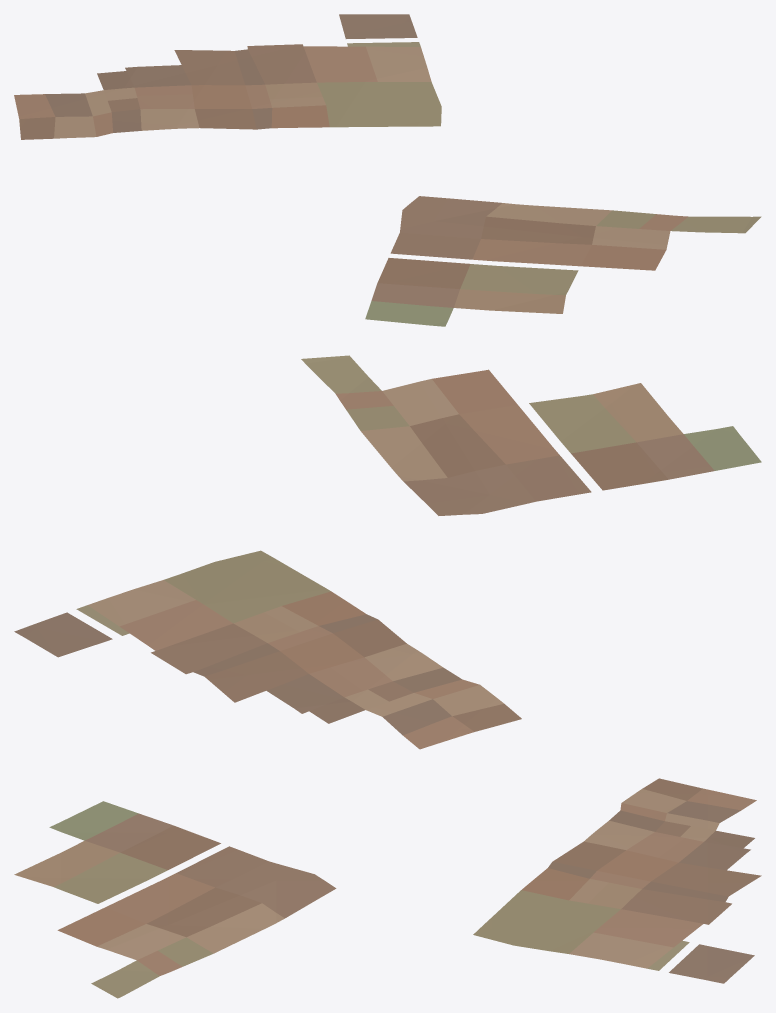
The model's file is farm_25_15_soil.glb.
The picture shows the model from 3 angles, top to bottom: view 1: azimuth 30°, elevation 25°; view 2: azimuth 150°, elevation 25°; view 3: azimuth 270°, elevation 25°; orthographic projection. The views are drawn at different scales.
Visible parts, largest first — view 1: geometry_0; view 2: geometry_0; view 3: geometry_0.
Boxes of the visible parts, x1,y1,x2,y2 form: geometry_0: [14, 14, 761, 326]; geometry_0: [14, 355, 761, 749]; geometry_0: [14, 778, 761, 998].
Bounding box in the file's own units: 400 × 9.06 × 555.
